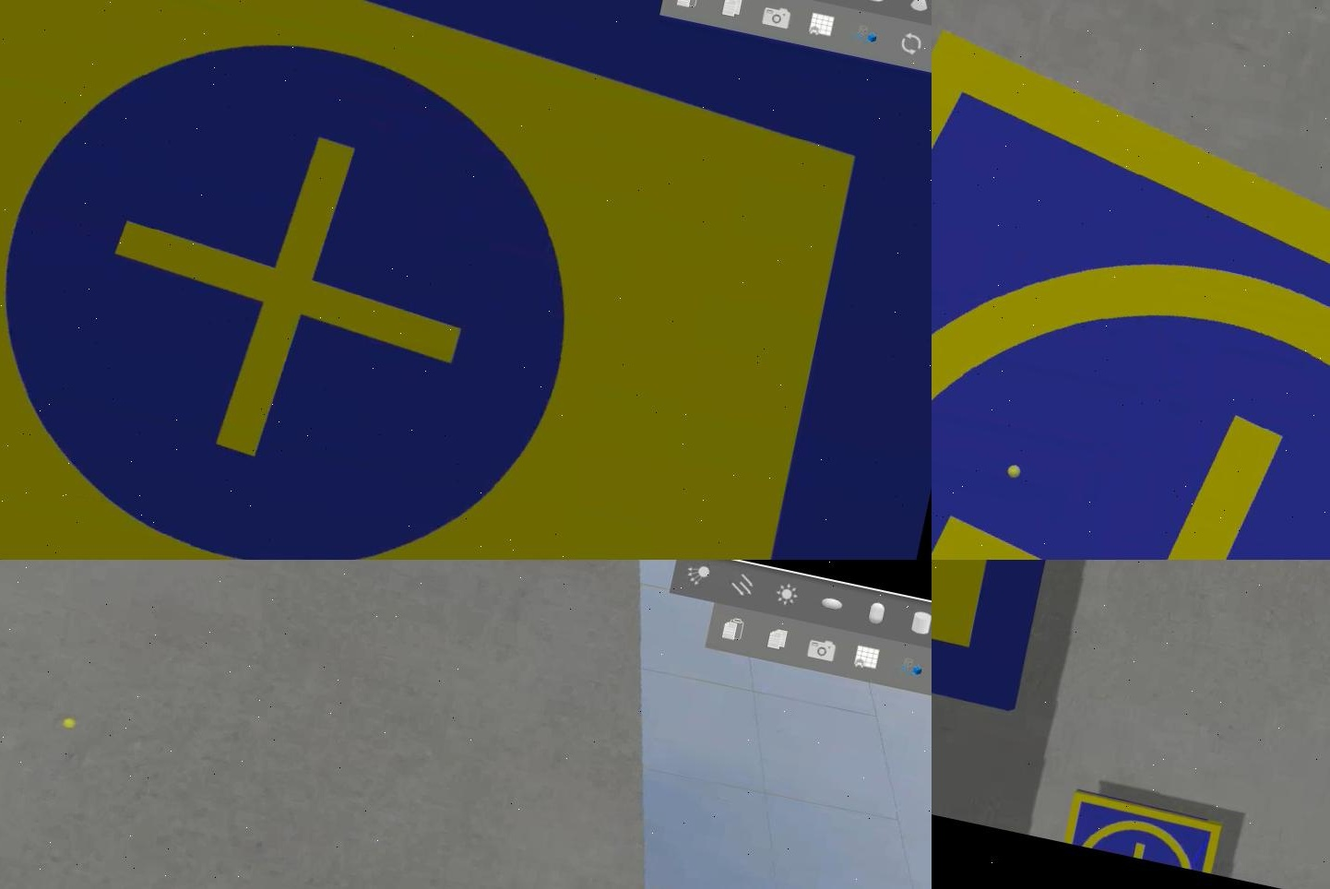large_base: (0, 1, 931, 561), (931, 561, 1109, 714)
small_base: (931, 1, 1328, 561), (1059, 789, 1222, 878)
